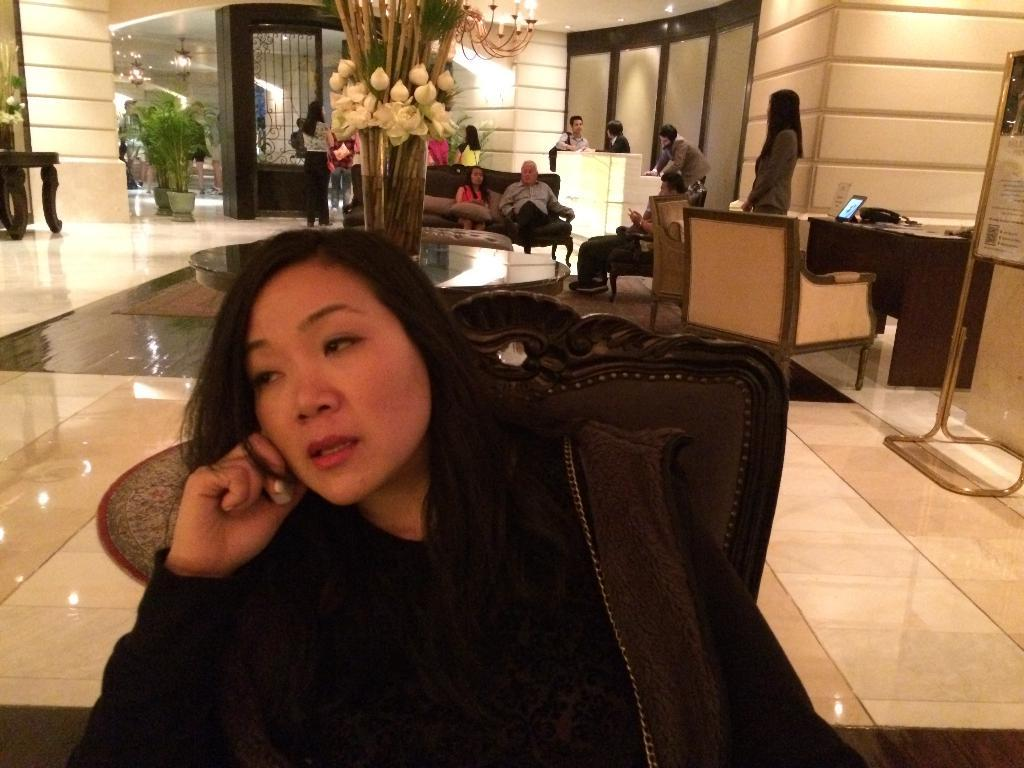Sem Máscara: (252, 260, 431, 500), (518, 161, 533, 180), (657, 178, 668, 196), (470, 165, 481, 181), (657, 132, 668, 145), (568, 119, 581, 128)
